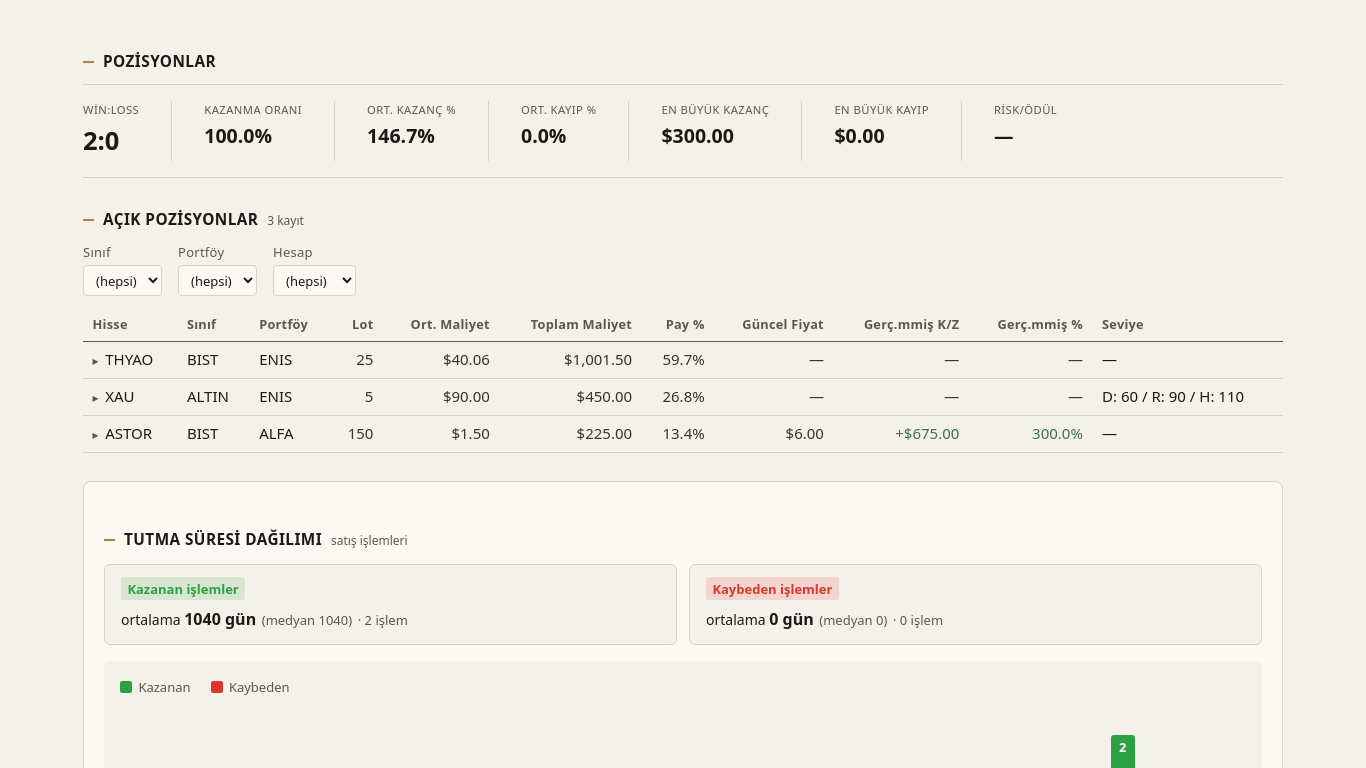
it: Pozisyonlar › partially closed open position shows both realized and unrealized P/L and sales table
The width and height of the screenshot is (1366, 768).
Click the text "ASTOR": x=683, y=434 x1=83 y1=416 x2=1283 y2=452
(page scrolled)
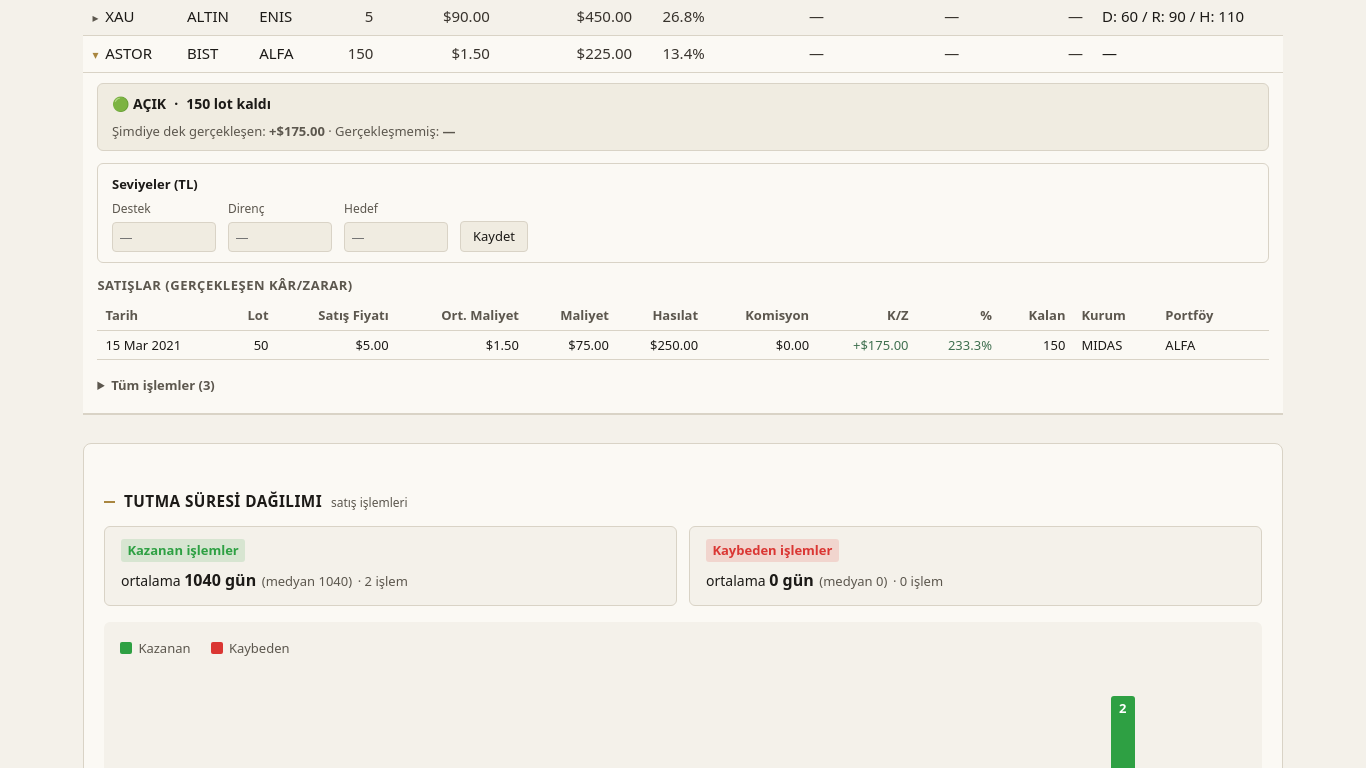
Check: the table shows "Gerçekleşmemiş:", box x1=335 y1=122 x2=442 y2=140
Check: the table shows "Satışlar (gerçekleşen kâr/zarar)", box x1=97 y1=276 x2=353 y2=294
Check: the element with class "all-txns" is shown, box x1=111 y1=376 x2=215 y2=394
